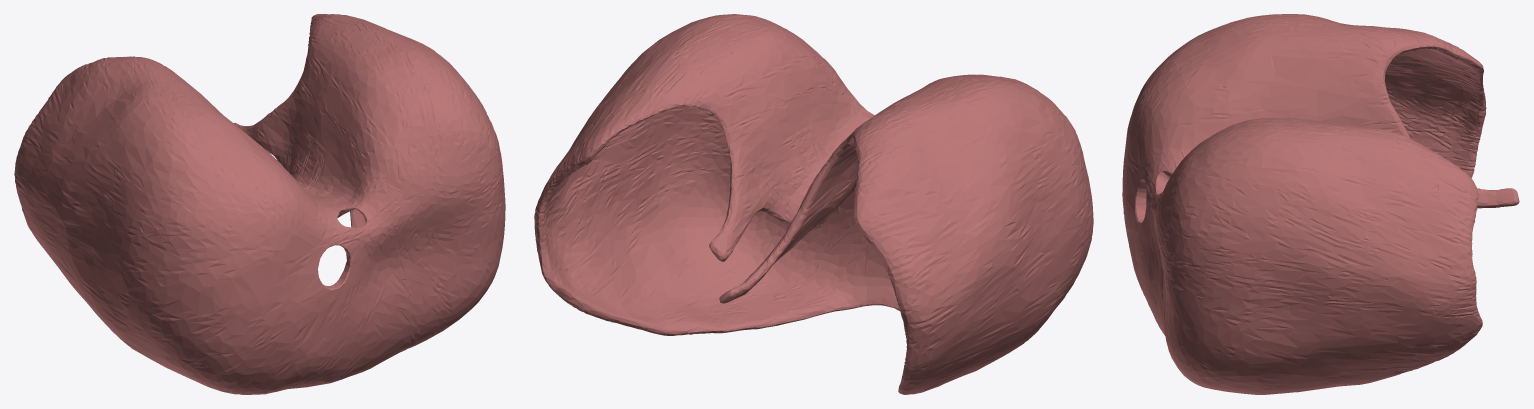
Rendered from diaphragme.glb.
3 renders of one model, left to right at view 1: azimuth 30°, elevation 25°; view 2: azimuth 150°, elevation 25°; view 3: azimuth 270°, elevation 25°, orthographic. The views are drawn at different scales.
Parts seen in each view (by area): view 1: world; view 2: world; view 3: world.
Part boxes in pixels (x1,y1,x2,y2): world: (14, 14, 505, 394); world: (534, 14, 1093, 394); world: (1122, 14, 1519, 394).
Bounding box in the file's own units: 2 × 1.35 × 1.78.
